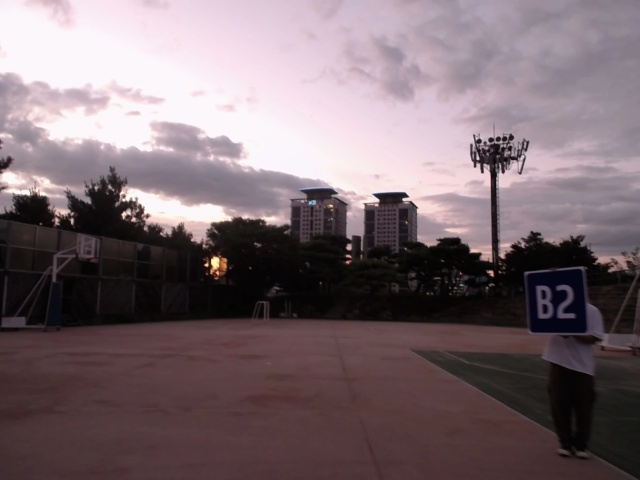delivery_b2: (524, 268, 590, 337)
